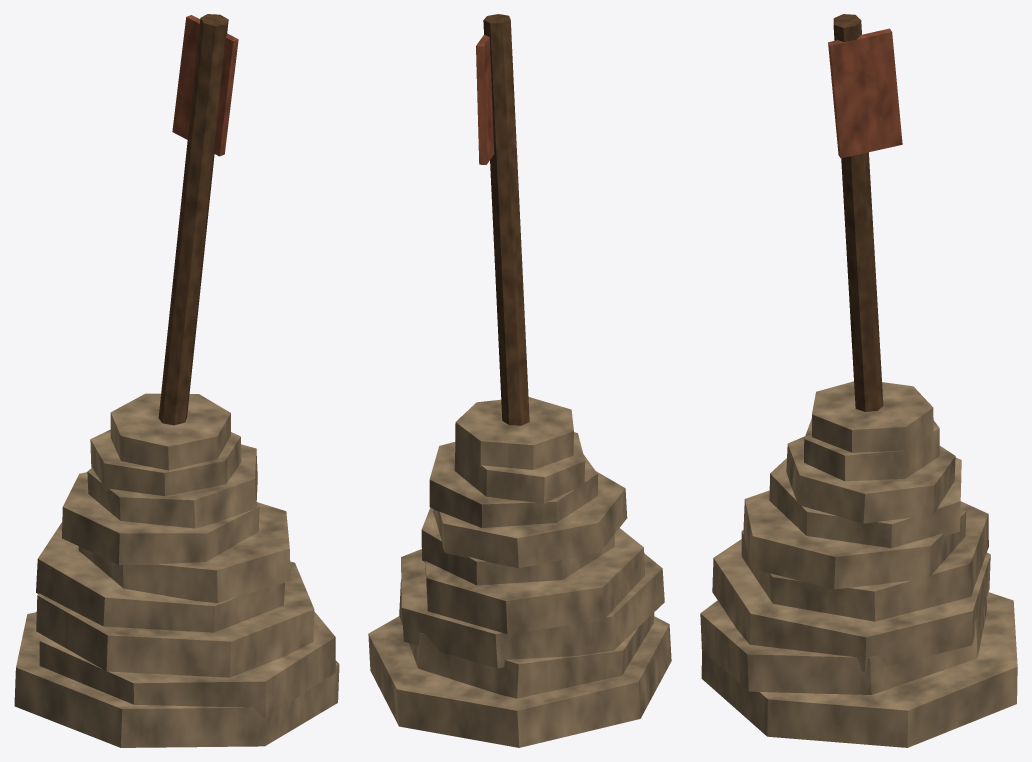
Rendered from waymark.glb.
3 views of the same model, side by side, from view 1: azimuth 30°, elevation 25°; view 2: azimuth 150°, elevation 25°; view 3: azimuth 270°, elevation 25° (orthographic). The views are drawn at different scales.
Visible parts, largest first — view 1: Cylinder; view 2: Cylinder; view 3: Cylinder.
Part boxes in pixels (left/top/right/bottom): Cylinder: left=14, top=14, right=339, bottom=747; Cylinder: left=368, top=14, right=671, bottom=747; Cylinder: left=700, top=14, right=1017, bottom=747.
Size of the model in its own units: 0.986 by 2.31 by 0.977.
Materials: 1 (1 with a texture image).
